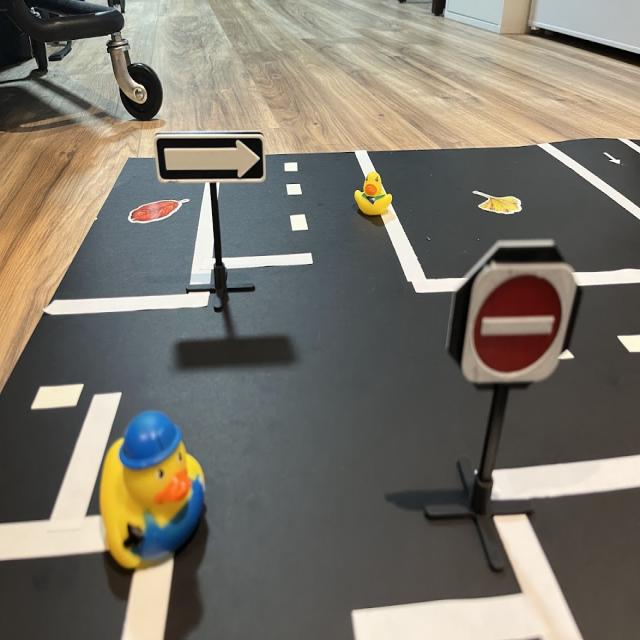duck_regular: (353, 171, 393, 218)
duck_specialty: (97, 408, 210, 578)
sign_noentry: (462, 265, 580, 386)
sign_oneway_right: (157, 133, 269, 185)
